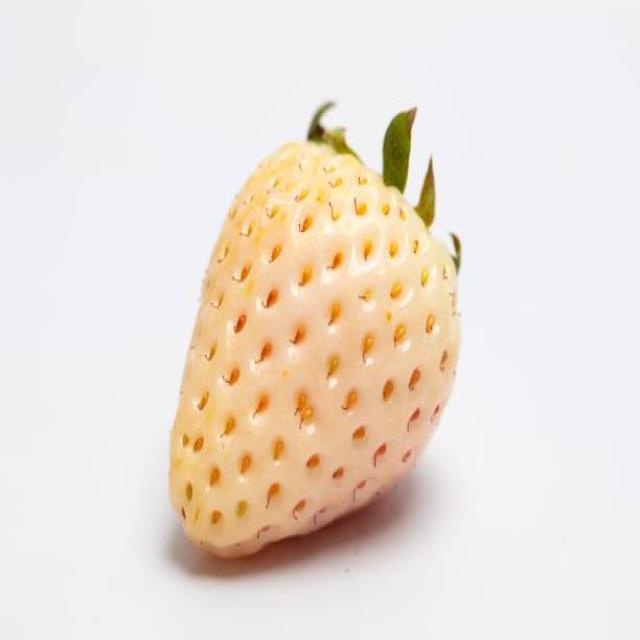Healthy Fruit: (167, 139, 462, 559)
